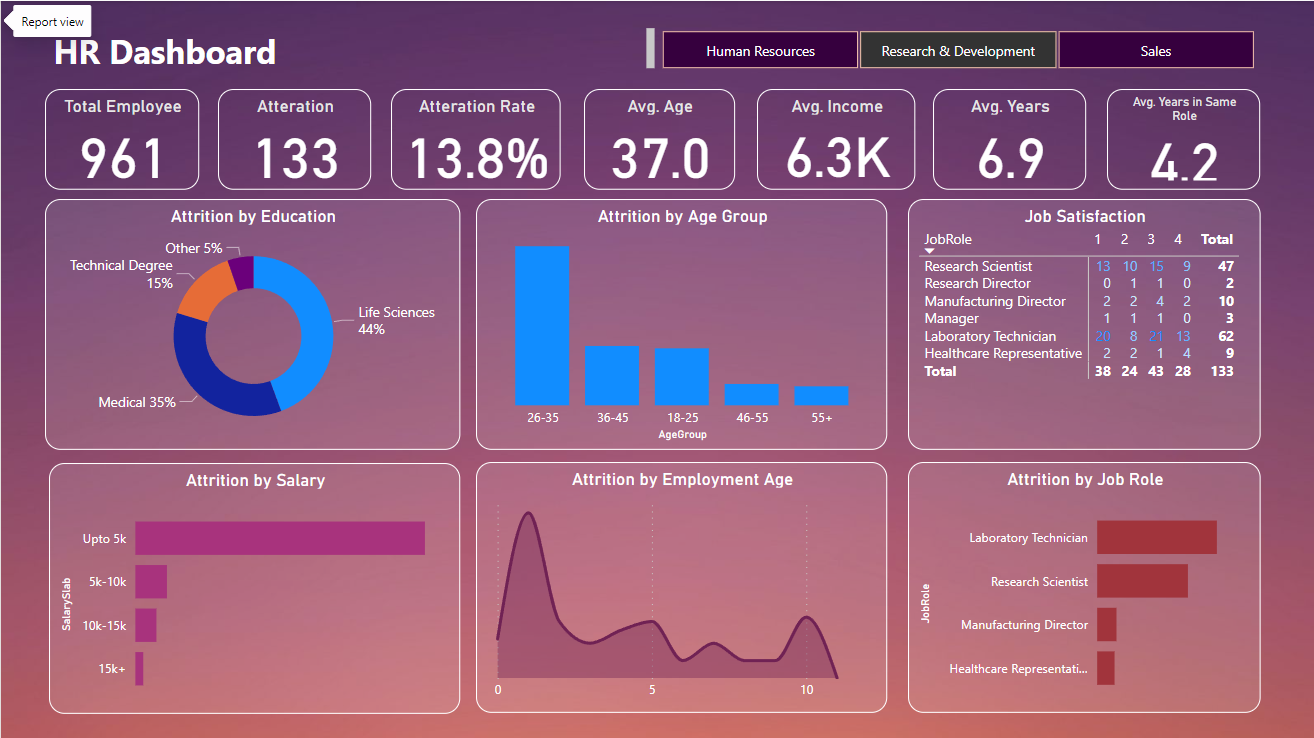

What the dashboard file says about the page in this screenshot:
{"tool":"powerbi","page":{"name":"Page 1","canvas":[1280,720],"ordinal":0},"visuals":[{"type":"card","title":"Total Employee","fields":{"Values":["Count(HR_Analytics.EmpID)"]},"box":[43,85.5,150,98.1],"z":0},{"type":"card","title":"Atteration","fields":{"Values":["Sum(HR_Analytics.Attrition_count)"]},"box":[210.6,85.5,148.9,98.1],"z":1000},{"type":"card","title":"Atteration Rate","fields":{"Values":["HR_Analytics.attration_rate"]},"box":[379.3,85.5,165.4,98.1],"z":2000},{"type":"card","title":"Avg. Age","fields":{"Values":["Avg(HR_Analytics.Age)"]},"box":[566.7,85.5,146.6,98.1],"z":3000},{"type":"card","title":"Avg. Income","fields":{"Values":["Avg(HR_Analytics.MonthlyIncome)"]},"box":[735.4,85.5,154.4,98.1],"z":4000},{"type":"card","title":"Avg. Years","fields":{"Values":["Avg(HR_Analytics.YearsAtCompany)"]},"box":[906.3,85.5,148.9,98.1],"z":5000},{"type":"card","title":"Avg. Years in Same Role","fields":{"Values":["Avg(HR_Analytics.YearsInCurrentRole)"]},"box":[1076.1,85.5,148.9,98.1],"z":6000},{"type":"donutChart","title":"Attrition  by Education","fields":{"Category":["HR_Analytics.EducationField"],"Y":["Sum(HR_Analytics.Attrition_count)"]},"box":[43,192.5,403.6,243.7],"z":7000},{"type":"columnChart","title":"Attrition  by Age Group","fields":{"Category":["HR_Analytics.AgeGroup"],"Y":["Sum(HR_Analytics.Attrition_count)"]},"box":[462,192.5,400.2,243.7],"z":8000},{"type":"pivotTable","title":"Job Satisfaction","fields":{"Rows":["HR_Analytics.JobRole"],"Columns":["HR_Analytics.JobSatisfaction"],"Values":["Sum(HR_Analytics.Attrition_count)"]},"box":[882.1,192.5,342.9,243.7],"z":9000},{"type":"barChart","title":"Attrition  by Salary","fields":{"Category":["HR_Analytics.SalarySlab"],"Y":["Sum(HR_Analytics.Attrition_count)"]},"box":[46.3,449.4,400.2,243.7],"z":10000},{"type":"barChart","title":"Attrition  by Job Role","fields":{"Category":["HR_Analytics.JobRole"],"Y":["Sum(HR_Analytics.Attrition_count)"]},"box":[882.2,448.8,343.2,244.1],"z":11000},{"type":"stackedAreaChart","title":"Attrition  by Employment Age","fields":{"Category":["HR_Analytics.YearsAtCompany"],"Y":["Sum(HR_Analytics.Attrition_count)"]},"box":[462.2,448.8,400.2,244.1],"z":12000},{"type":"slicer","fields":{"Values":["HR_Analytics.Department"]},"box":[617.9,22.1,624.9,50],"z":13000},{"type":"textbox","box":[45.8,21.1,594.8,50.8],"z":14000}]}

Visuals, with their boxes in screenshot pixels (x1, y1, x2, y2):
"Total Employee" card: l=50, t=93, r=202, b=193
"Atteration" card: l=220, t=93, r=371, b=193
"Atteration Rate" card: l=391, t=93, r=558, b=193
"Avg. Age" card: l=581, t=93, r=729, b=193
"Avg. Income" card: l=751, t=93, r=908, b=193
"Avg. Years" card: l=924, t=93, r=1075, b=193
"Avg. Years in Same Role" card: l=1096, t=93, r=1247, b=193
"Attrition  by Education" donutChart: l=50, t=202, r=459, b=448
"Attrition  by Age Group" columnChart: l=475, t=202, r=880, b=448
"Job Satisfaction" pivotTable: l=900, t=202, r=1247, b=448
"Attrition  by Salary" barChart: l=54, t=462, r=459, b=709
"Attrition  by Job Role" barChart: l=900, t=461, r=1247, b=708
"Attrition  by Employment Age" stackedAreaChart: l=475, t=461, r=880, b=708
slicer - HR_Analytics.Department: l=632, t=29, r=1265, b=80
textbox: l=53, t=28, r=655, b=80
